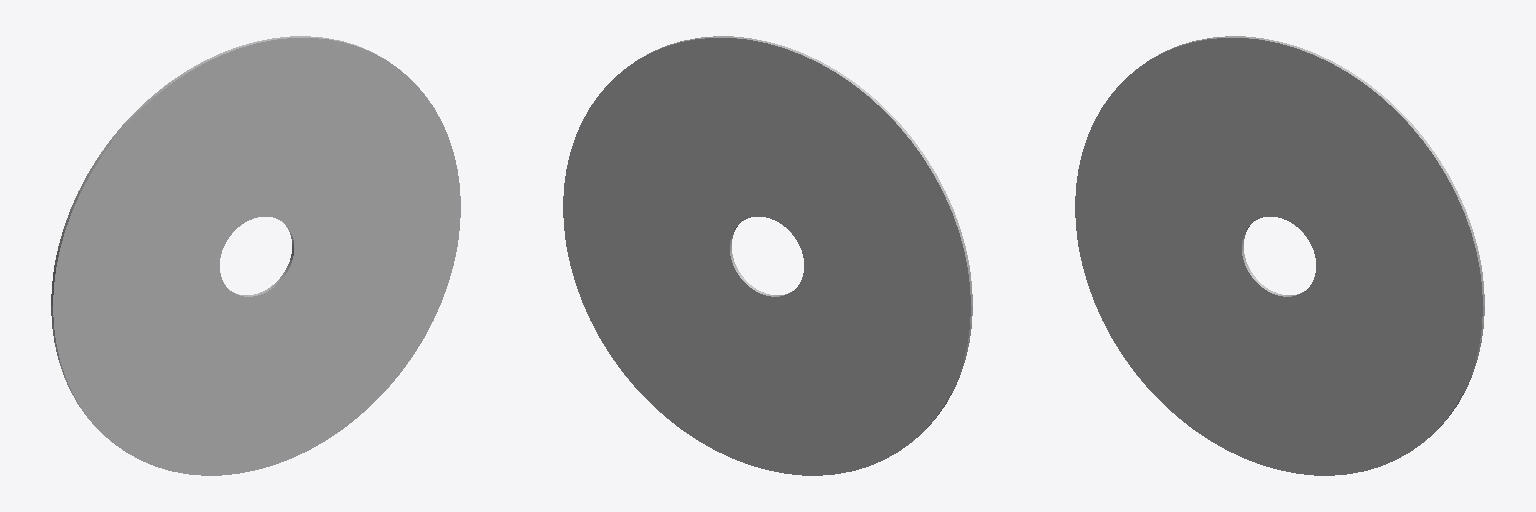
The model's file is HGTD_PositiveEndcap_passives_l5.obj.
The picture shows the model from 3 angles: view 1: azimuth 30°, elevation 25°; view 2: azimuth 150°, elevation 25°; view 3: azimuth 330°, elevation 25°; orthographic projection.
Bounding box in the file's own units: 1323 × 1323 × 11.24.